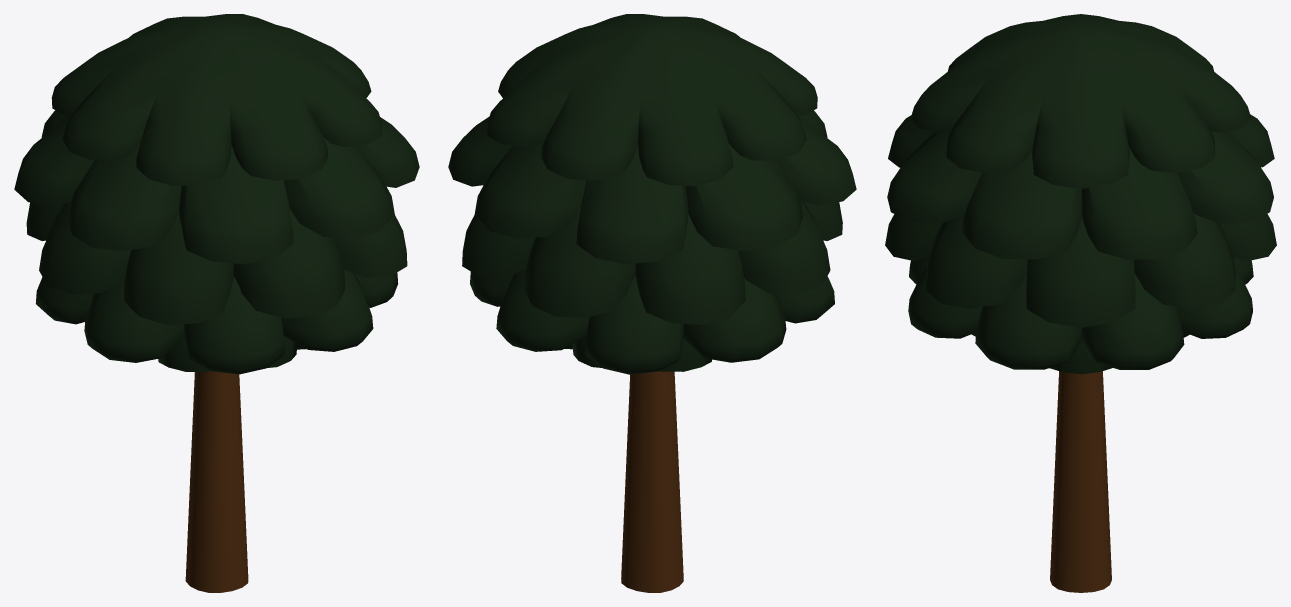
Rendered from Tree.obj.
The picture shows the model from 3 angles, left to right: view 1: azimuth 30°, elevation 25°; view 2: azimuth 150°, elevation 25°; view 3: azimuth 270°, elevation 25°; orthographic projection.
Parts seen in each view (by area): view 1: Tree_Cube.118; view 2: Tree_Cube.118; view 3: Tree_Cube.118.
Boxes of the visible parts, left/top/right/bottom form: Tree_Cube.118: left=14, top=14, right=419, bottom=592; Tree_Cube.118: left=448, top=14, right=856, bottom=592; Tree_Cube.118: left=885, top=14, right=1276, bottom=592.
Bounding box in the file's own units: 5.53 × 8.63 × 5.55.
